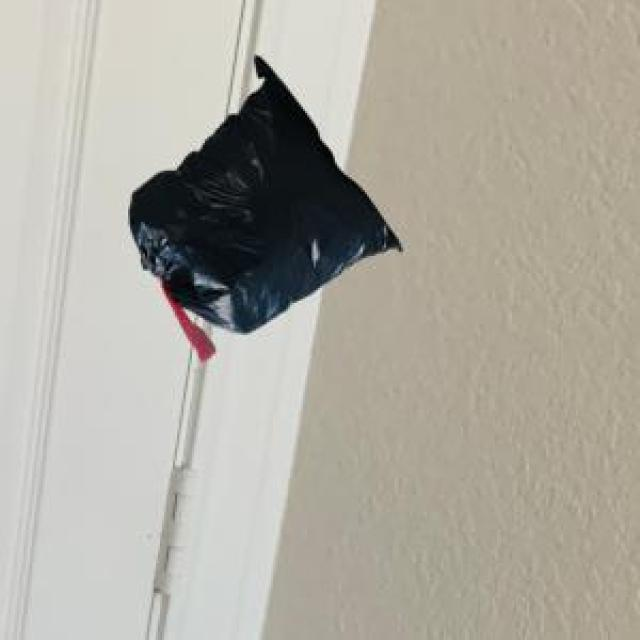miscellaneous trash: (126, 51, 397, 358)
